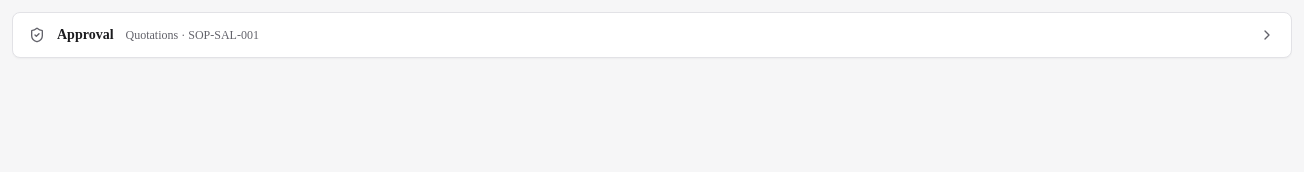
Test case: Approval panel (21 Nov 2026: no empty band when opened) › says there is nothing to show instead of an empty body
Click the button "Approval Quotations · SOP-SAL-001": [85, 34] box [13, 13, 1291, 57]
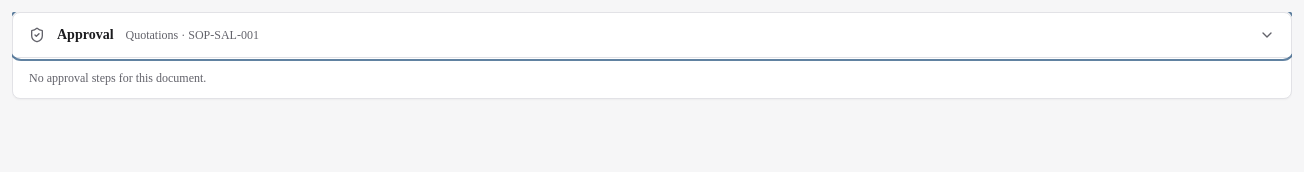
Now the text "No approval steps for this document." is shown, box [13, 57, 1291, 98]
